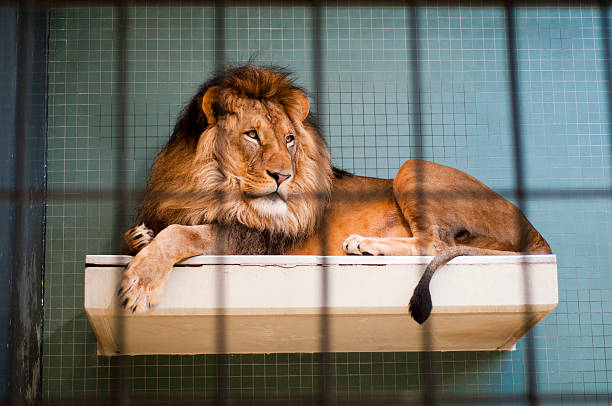lion: (128, 48, 355, 249)
